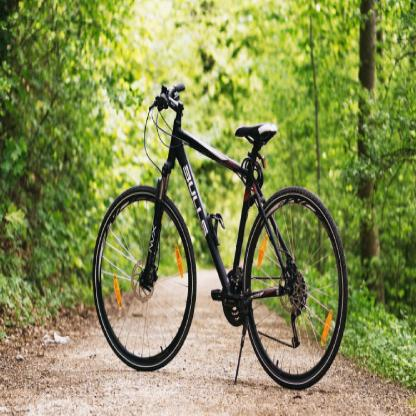Bike: (93, 73, 354, 394)
